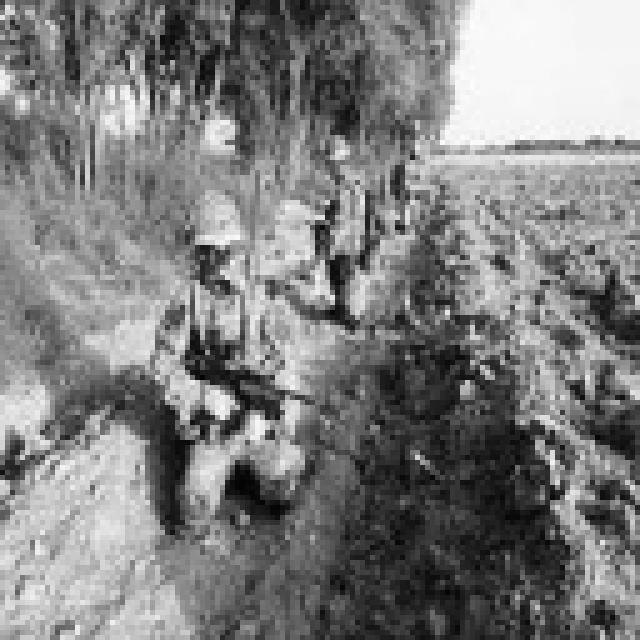Rifle: (171, 308, 334, 470)
